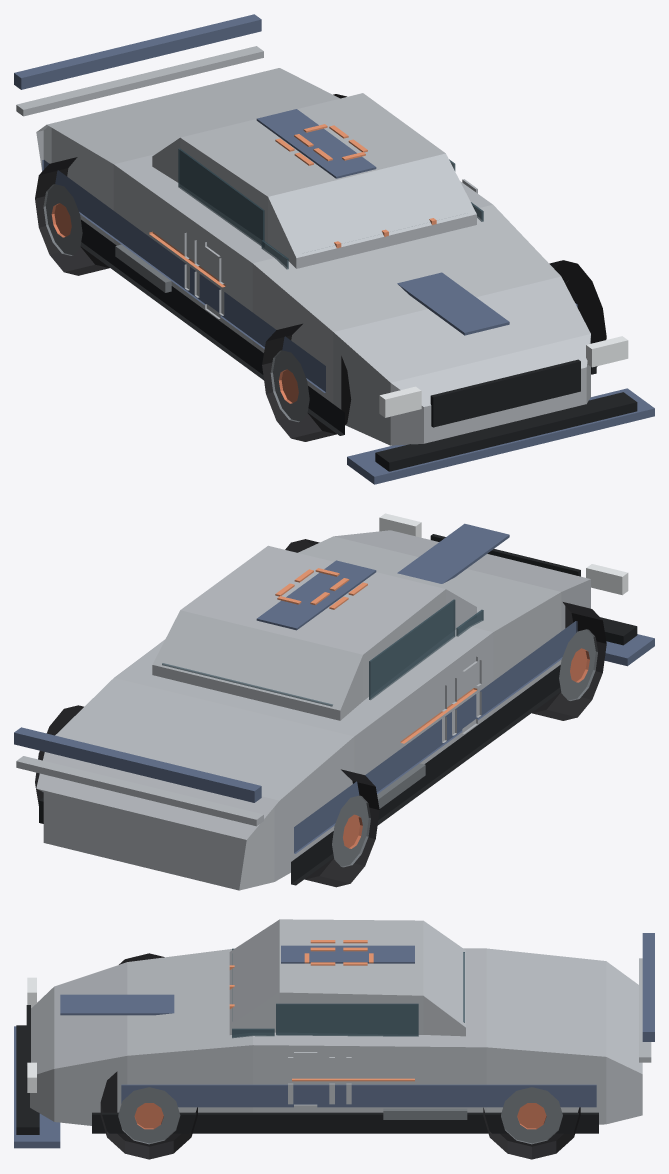
The model's file is web_stock_car_10.gltf.
3 views of the same model, one above another, from view 1: azimuth 30°, elevation 25°; view 2: azimuth 150°, elevation 25°; view 3: azimuth 270°, elevation 25° (orthographic). The views are drawn at different scales.
Visible parts, largest first — view 1: WebStockCar_10; view 2: WebStockCar_10; view 3: WebStockCar_10.
Boxes of the visible parts, box(x1,y1,x2,y2) form: WebStockCar_10: box(14, 14, 654, 484); WebStockCar_10: box(14, 513, 654, 890); WebStockCar_10: box(14, 919, 654, 1159).
Bounding box in the file's own units: 2.35 × 1.34 × 5.26.
